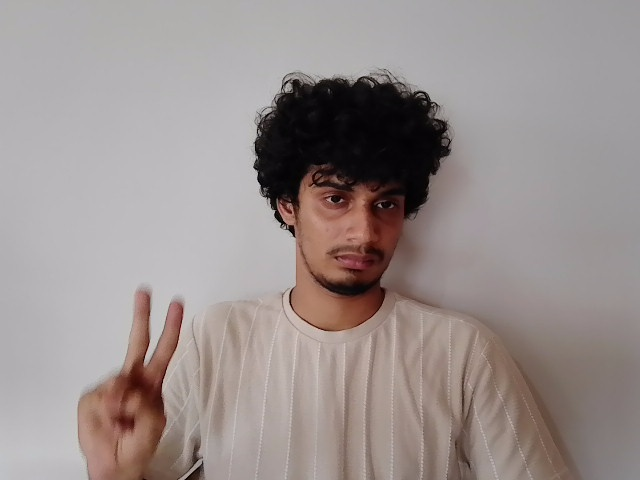travel: (75, 278, 187, 474)
